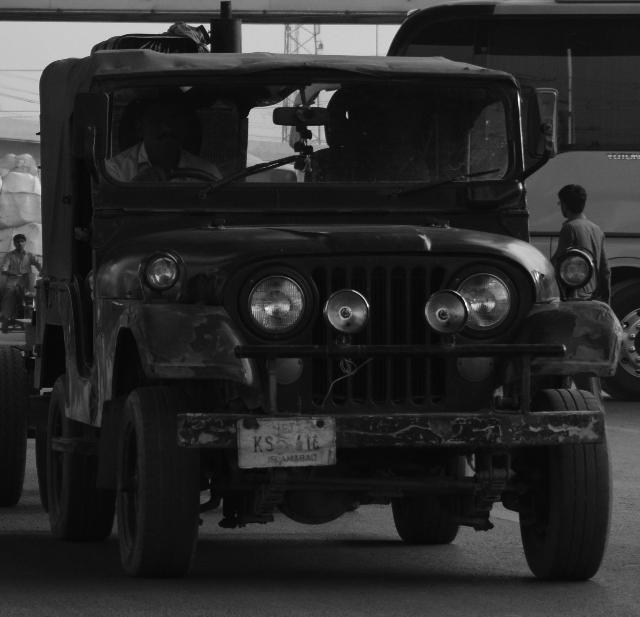Number: (248, 428, 324, 456)
